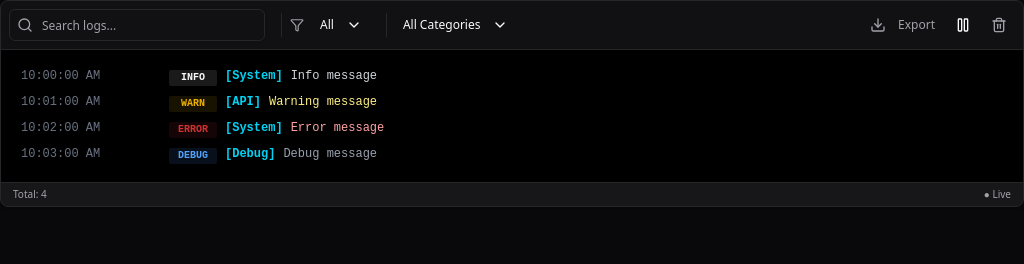
Test: LogViewer › Level Filtering › should filter logs by level when error is selected
Note: Open level dropdown - find the button that shows 'all' text
Click the button "all": coordinates (341, 25) x1=312 y1=13 x2=370 y2=37
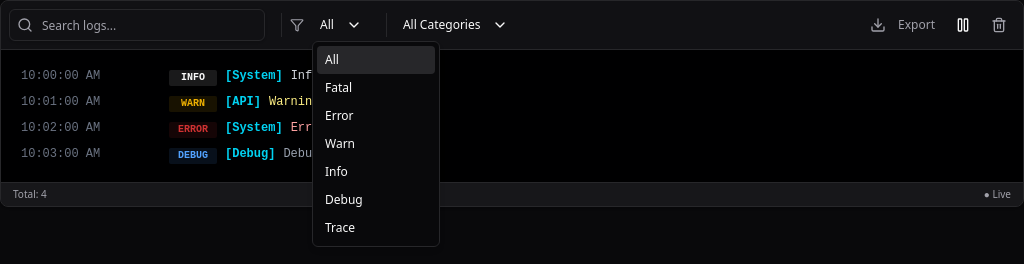
Note: Click error option
Click the menu item "error": coordinates (339, 116) x1=325 y1=107 x2=354 y2=124
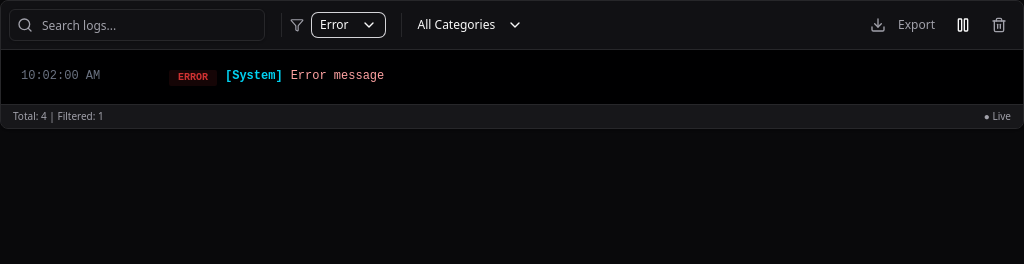
Expected: the text "Error message" is shown, x1=291 y1=68 x2=384 y2=86
Result: the text "Info message" is gone
